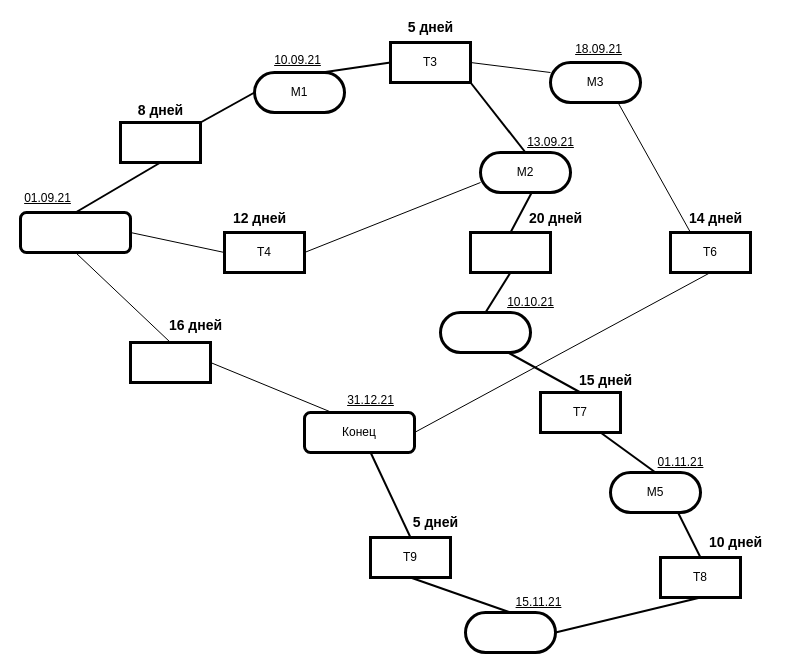
This 787x671 diagram has some shape labels left out. Here are the shapes that lost their labels. From the top down, the box of each, then its label:
(118, 120, 202, 164): T1
(18, 210, 132, 254): Начало
(468, 230, 552, 274): T5
(438, 310, 532, 354): M4
(128, 340, 212, 384): T2
(464, 610, 556, 654): M6
